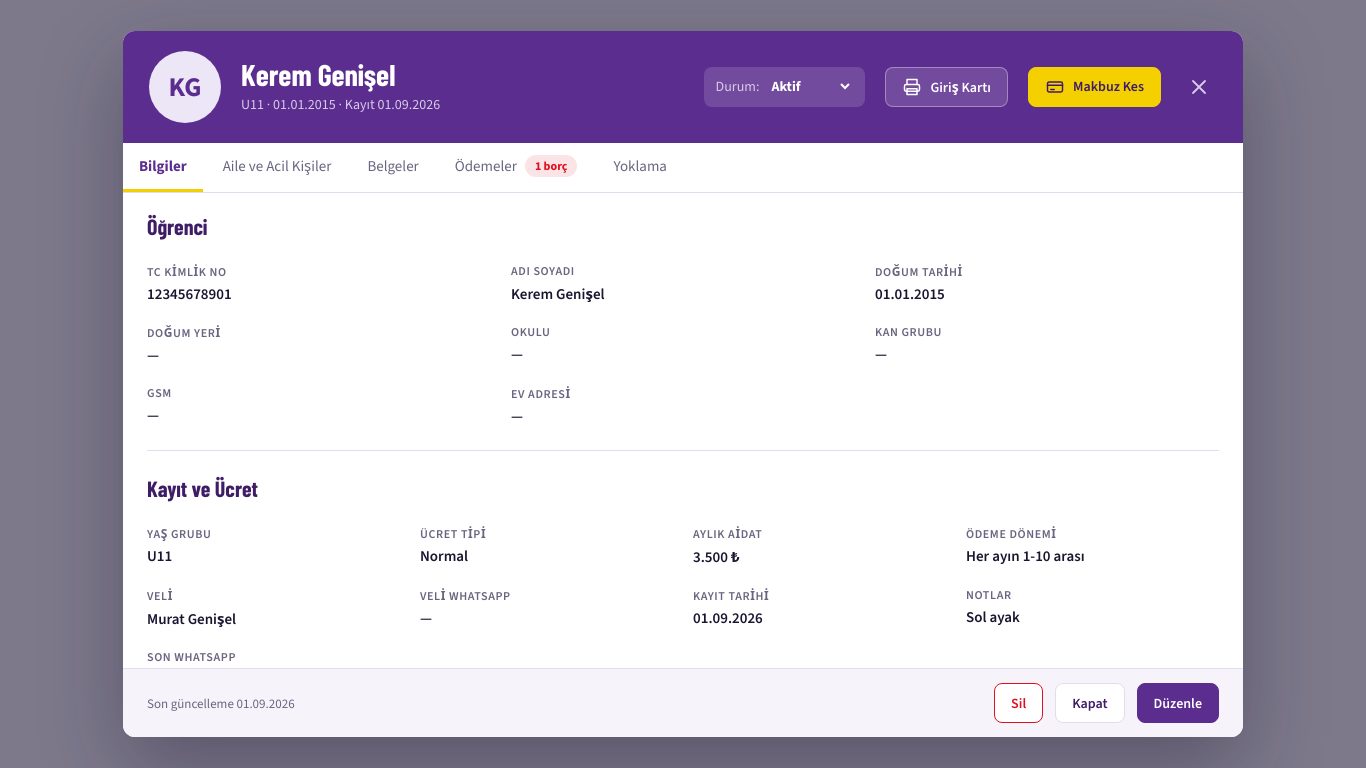
it: Oyuncu kartı sekmeleri › Yoklama: özet sayılar ve son kayıtlar
Click the button "Yoklama": coordinates (640, 167) [597,143,683,192]
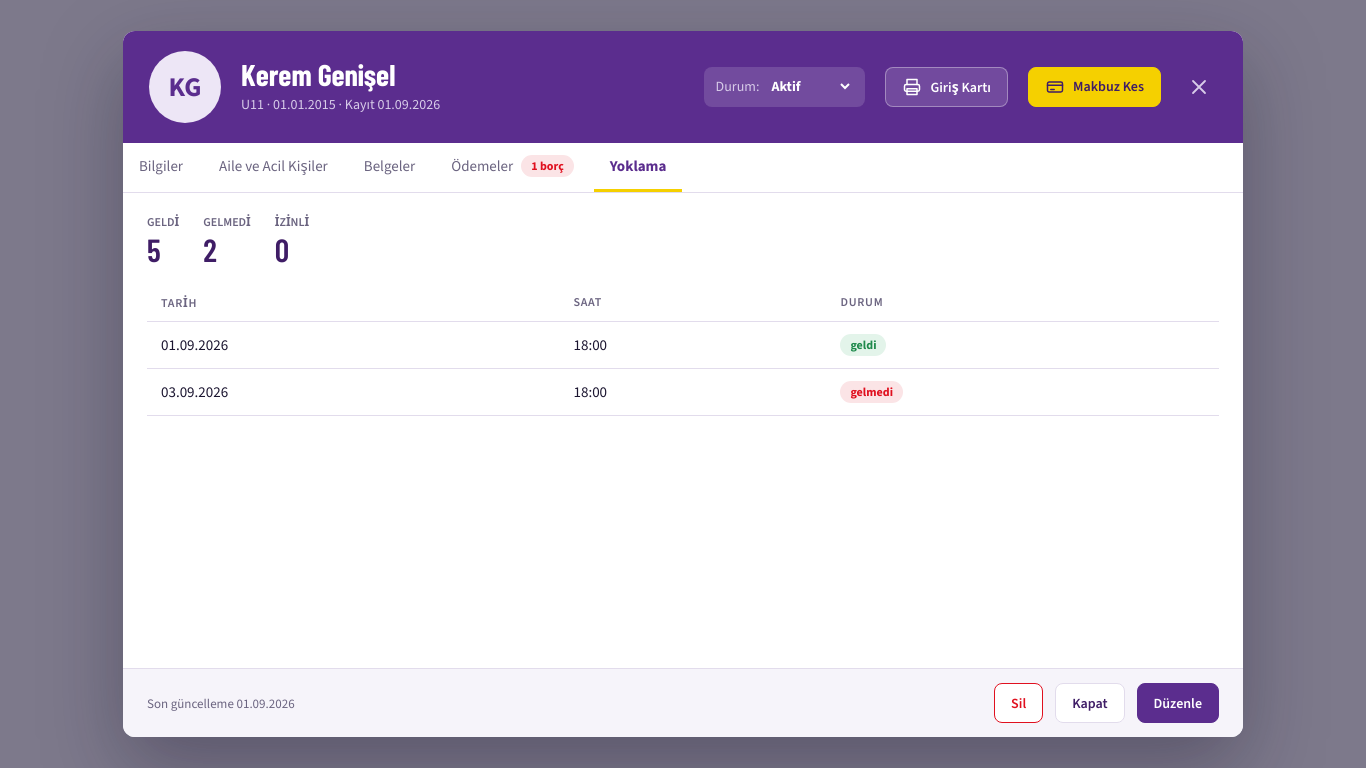
Expected: the text "01.09.2026" is shown, [147,321,560,368]
Expected: the text "2" is shown, [203,230,217,268]
Expected: the text "03.09.2026" is shown, [147,368,560,415]
